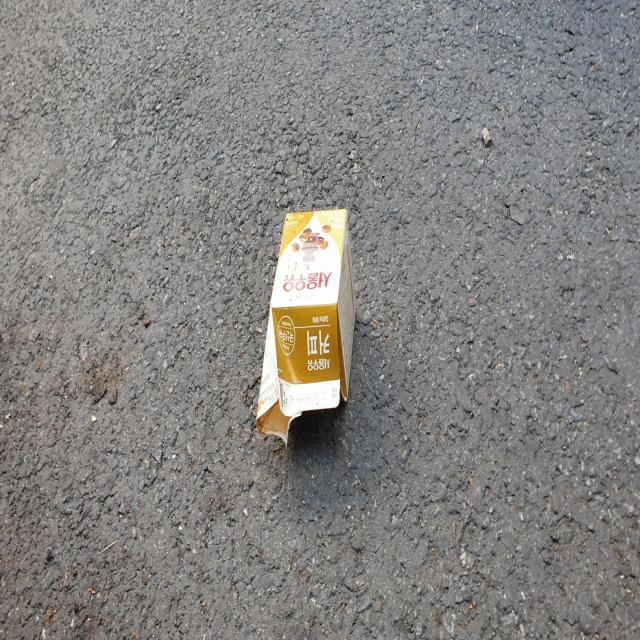paperpack: (256, 209, 356, 444)
